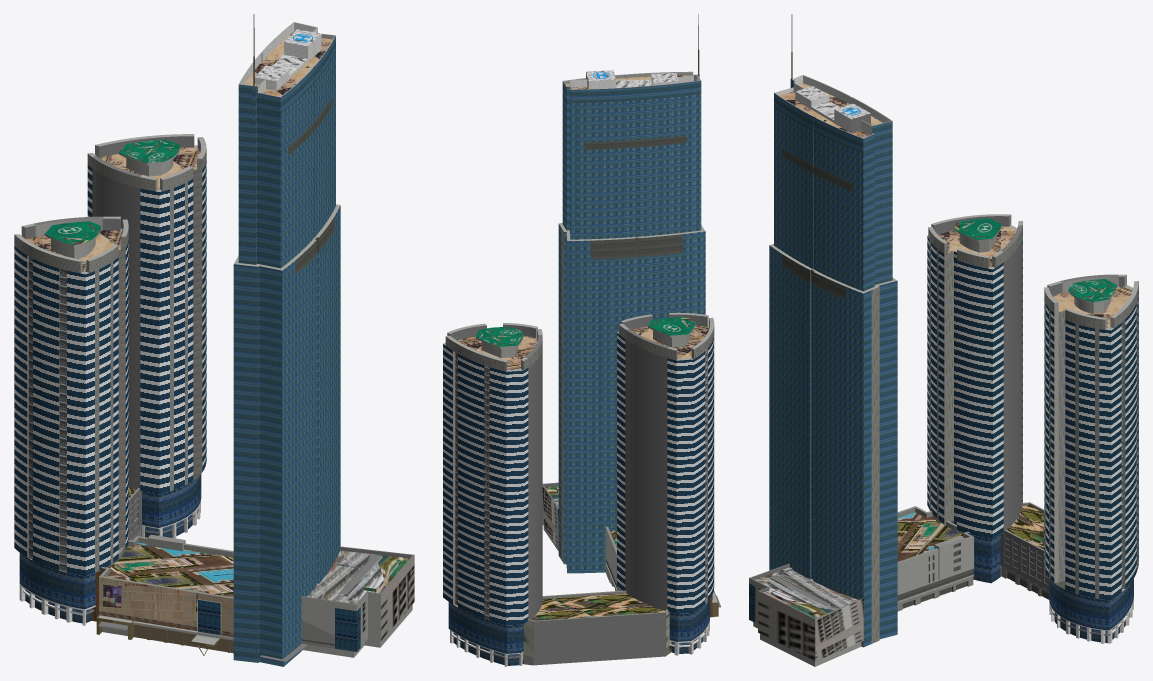
File: Keangnam.gltf
3 views of the same model, side by side, from view 1: azimuth 30°, elevation 25°; view 2: azimuth 150°, elevation 25°; view 3: azimuth 270°, elevation 25° (orthographic). The views are drawn at different scales.
Parts seen in each view (by area): view 1: root; view 2: root; view 3: root.
Boxes of the visible parts, x1=… form: root: x1=14, y1=14, x2=414, y2=666; root: x1=443, y1=14, x2=720, y2=666; root: x1=749, y1=14, x2=1138, y2=666.
Size of the model in its own units: 177 by 376 by 230.
Materials: 30 (28 with a texture image).
